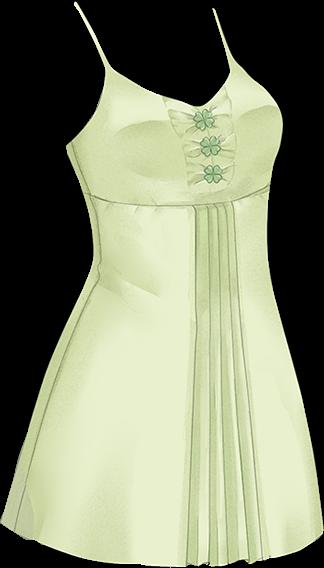Bodice: (66, 1, 281, 269)
Hemline: (0, 517, 323, 567)
Neckline: (73, 0, 233, 109), (81, 180, 273, 210)
Skirt: (0, 261, 322, 566)
